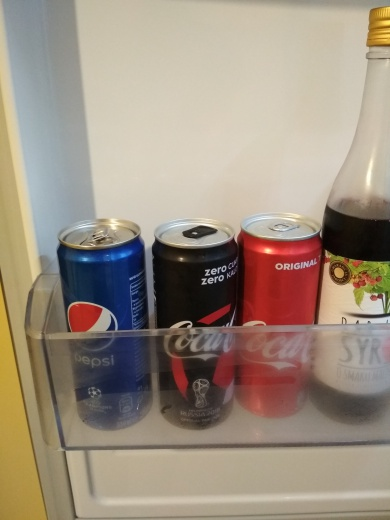cola: (224, 199, 330, 434)
colazero: (147, 211, 250, 433)
pepsi: (49, 215, 160, 434)
